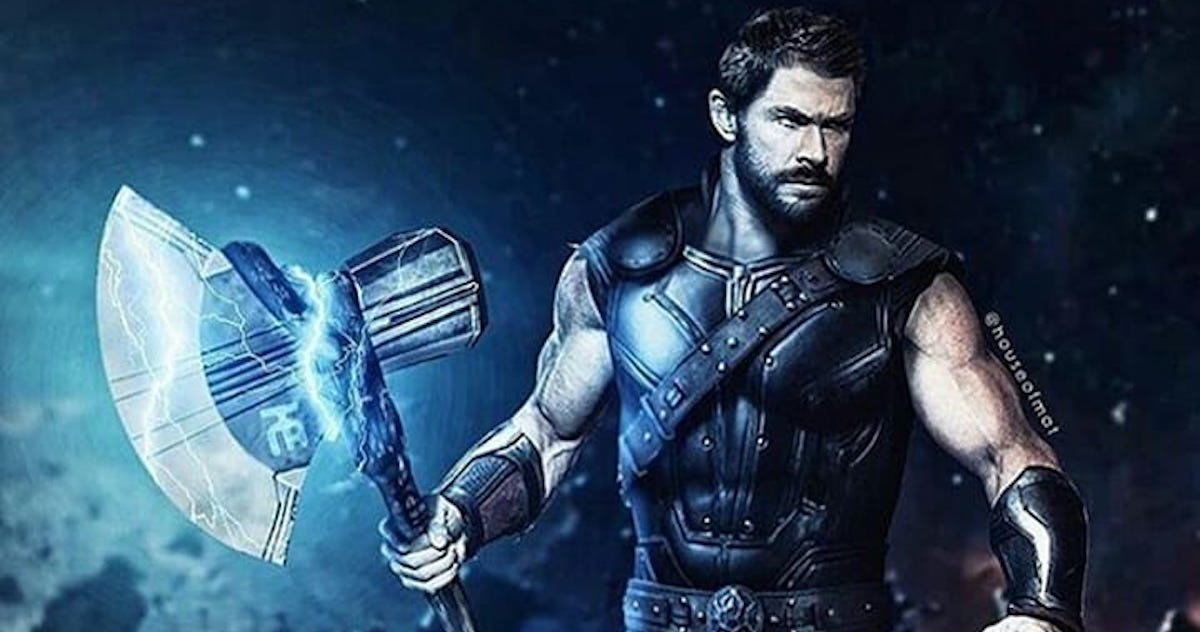THOR Hammer: (86, 185, 509, 601)
